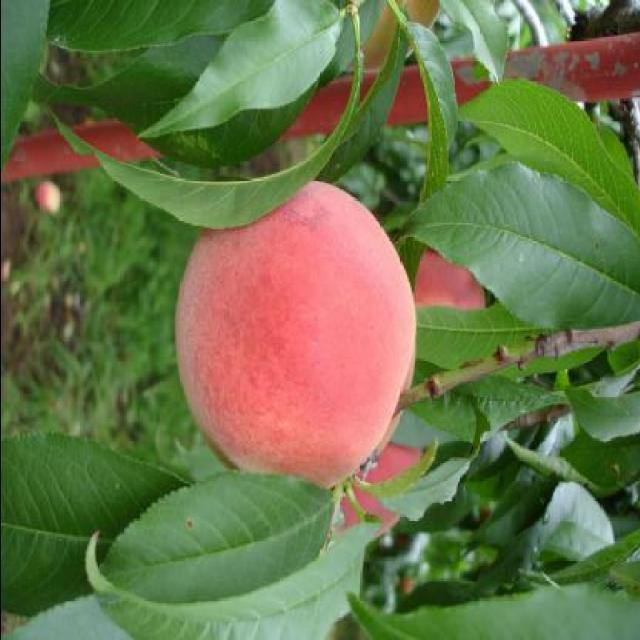Peach: (174, 177, 417, 485), (336, 440, 422, 542), (415, 250, 487, 312)
